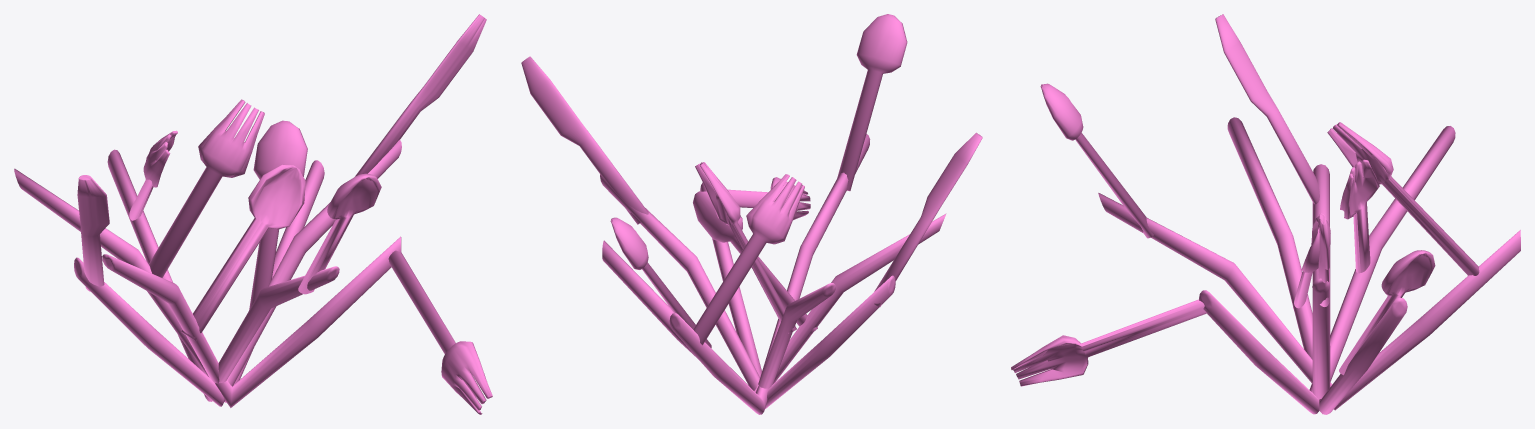
File: PinkCoral.gltf
The picture shows the model from 3 angles, left to right: view 1: azimuth 30°, elevation 25°; view 2: azimuth 150°, elevation 25°; view 3: azimuth 270°, elevation 25°; orthographic projection. The views are drawn at different scales.
Visible parts, largest first — view 1: PinkCoralOne; view 2: PinkCoralOne; view 3: PinkCoralOne.
Boxes of the visible parts, x1,y1,x2,y2 form: PinkCoralOne: (14, 14, 492, 414); PinkCoralOne: (521, 14, 982, 414); PinkCoralOne: (1011, 14, 1520, 414).
Size of the model in its own units: 2.76 by 1.92 by 2.71.
